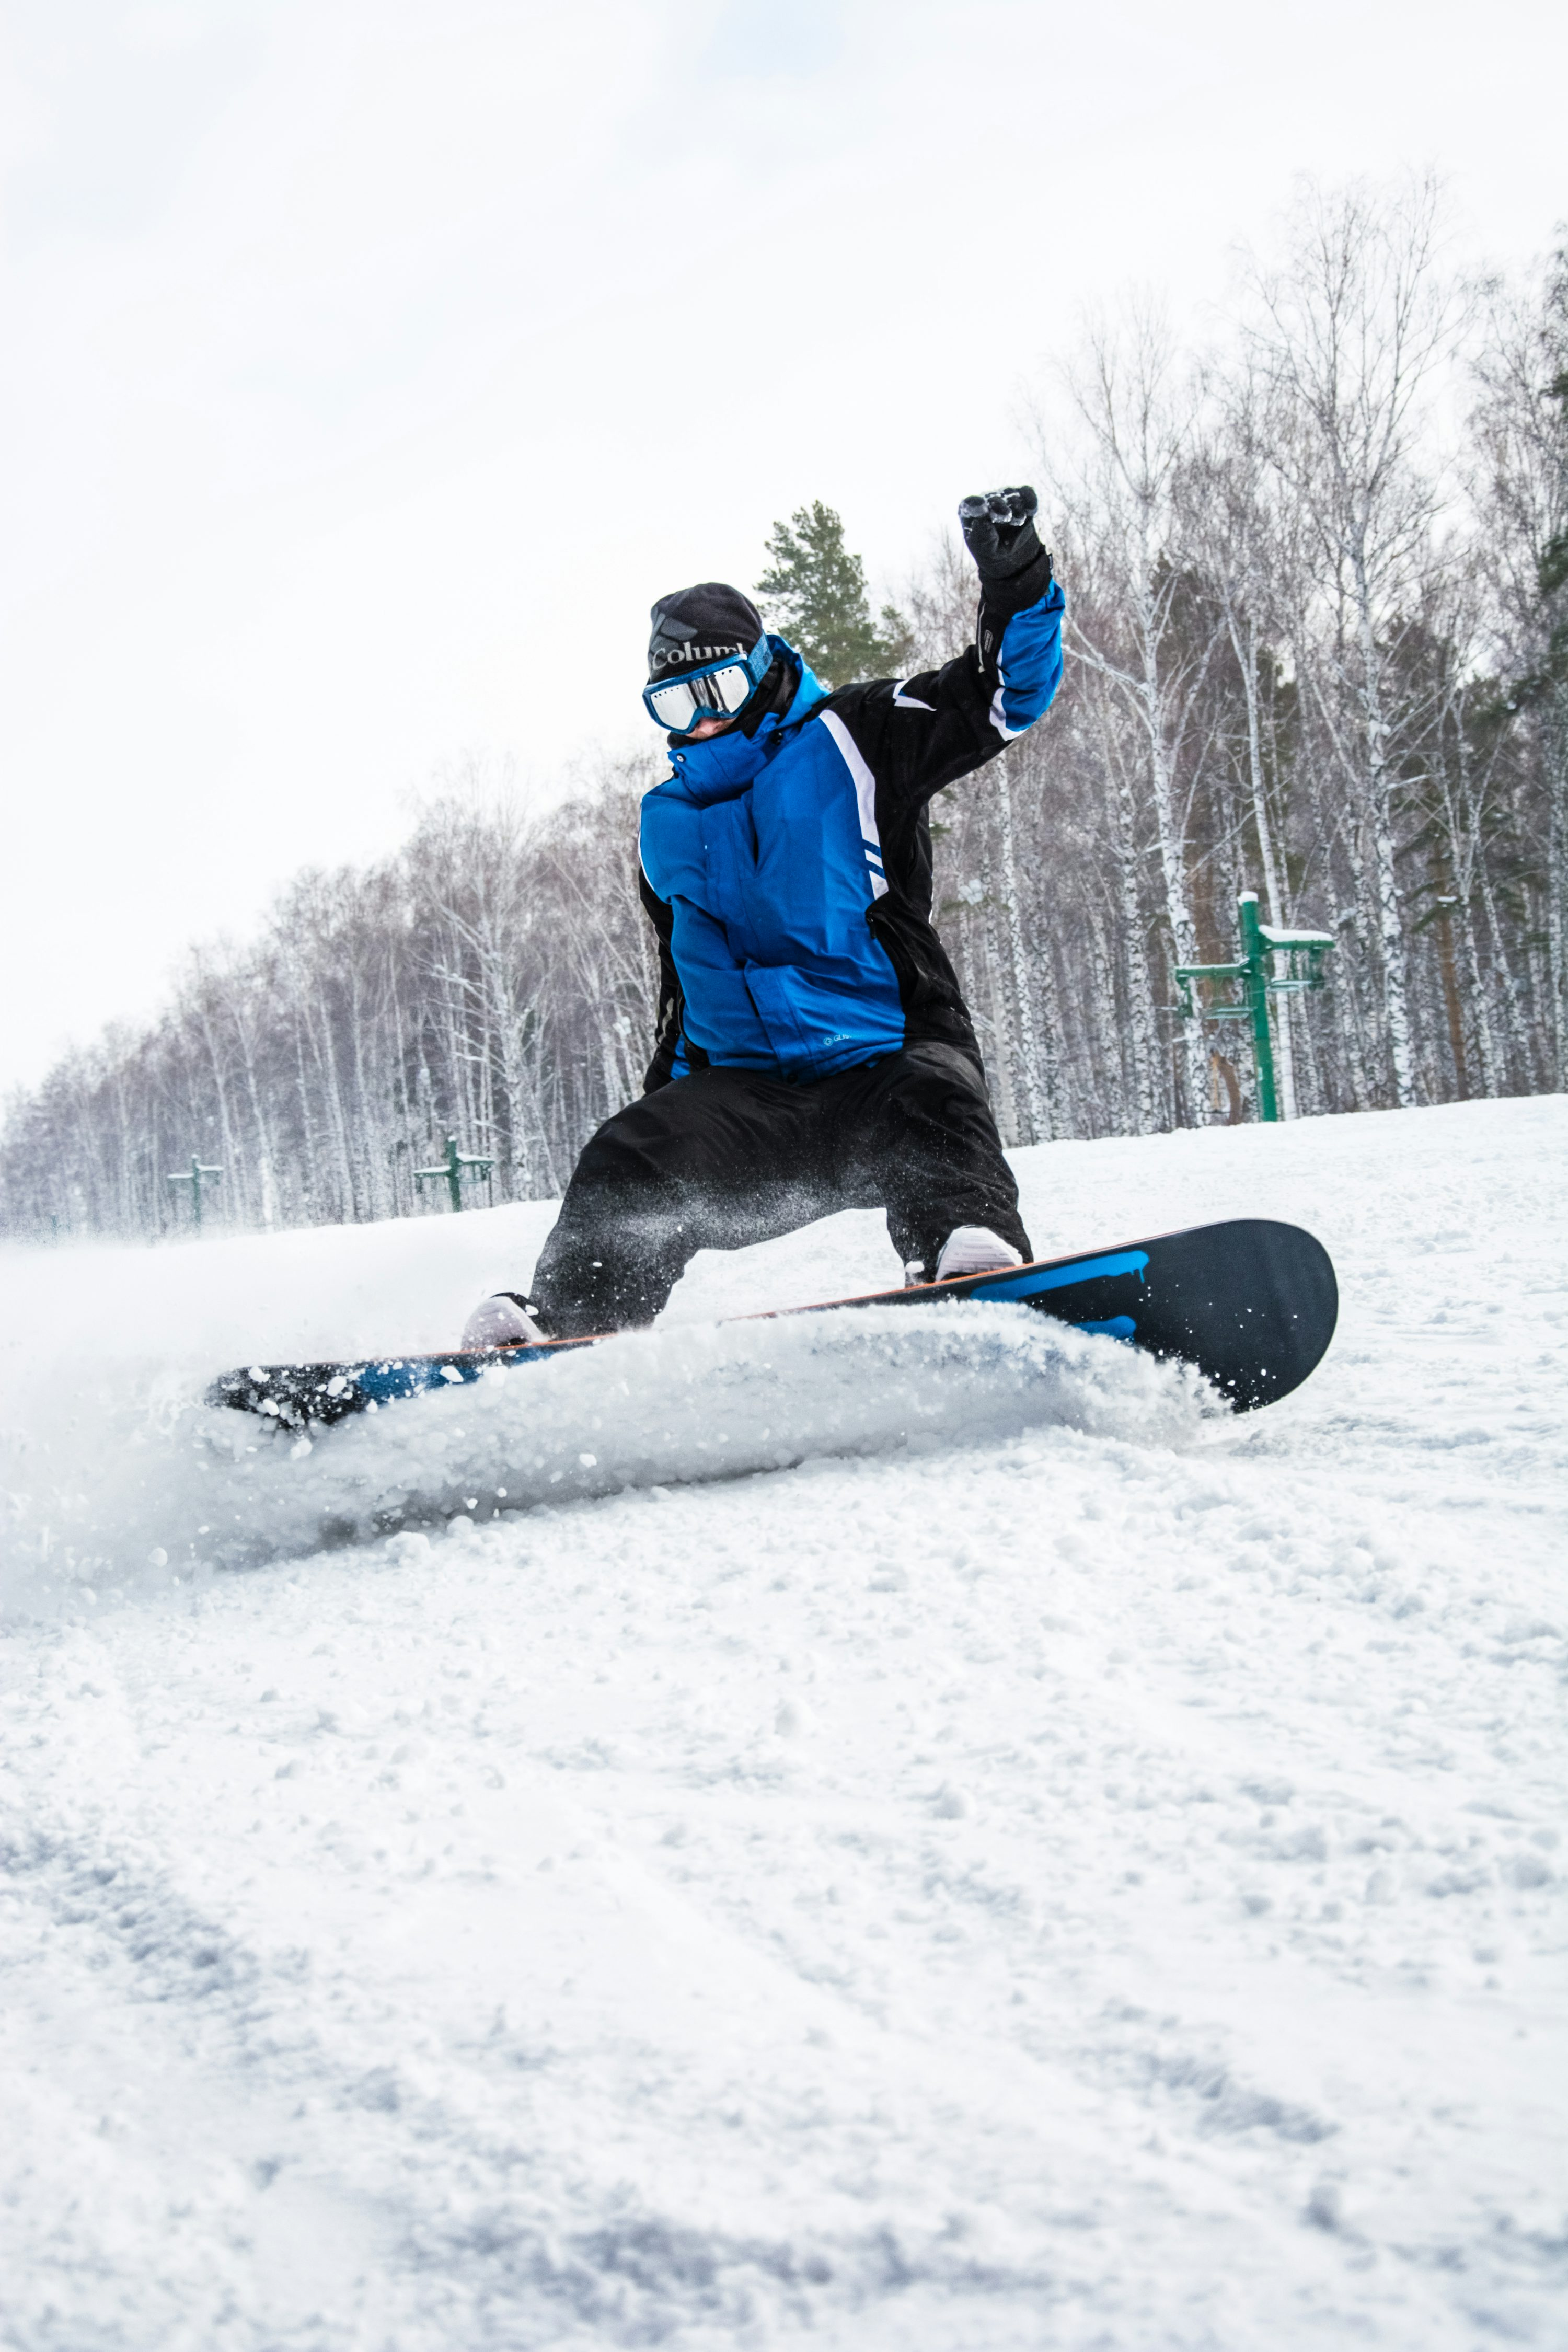snowboarder: (180, 371, 1377, 1507)
